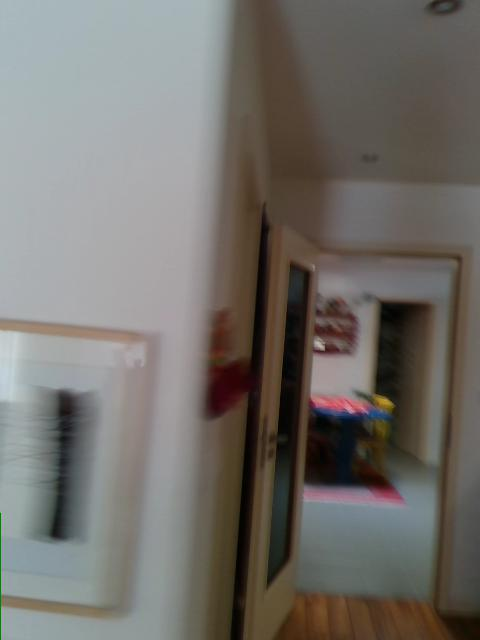door: (243, 223, 320, 639)
